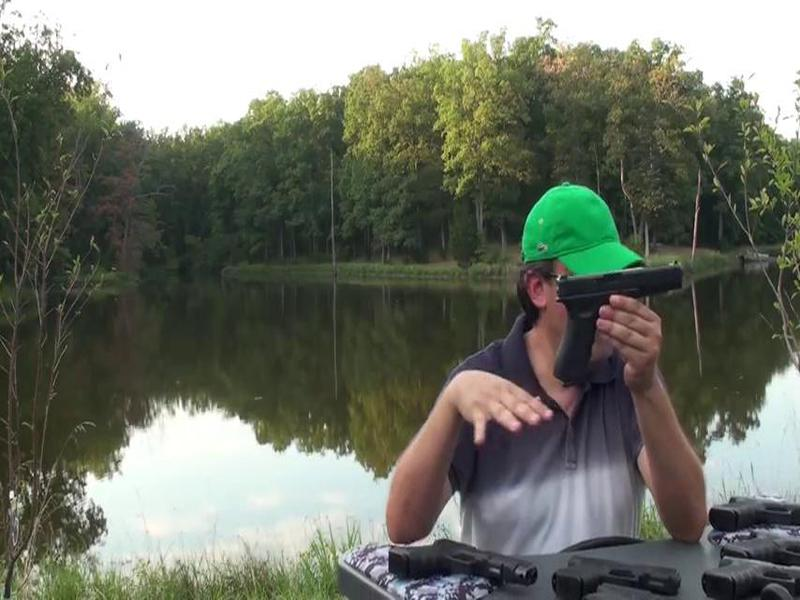Pistola: (537, 254, 711, 388)
